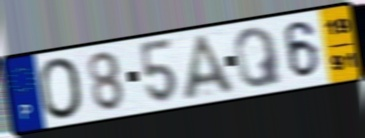5: (137, 36, 180, 108)
6: (282, 20, 322, 81)
8: (85, 49, 126, 114)
A: (181, 31, 240, 103)
O: (37, 55, 86, 121)
Q: (232, 25, 285, 90)
